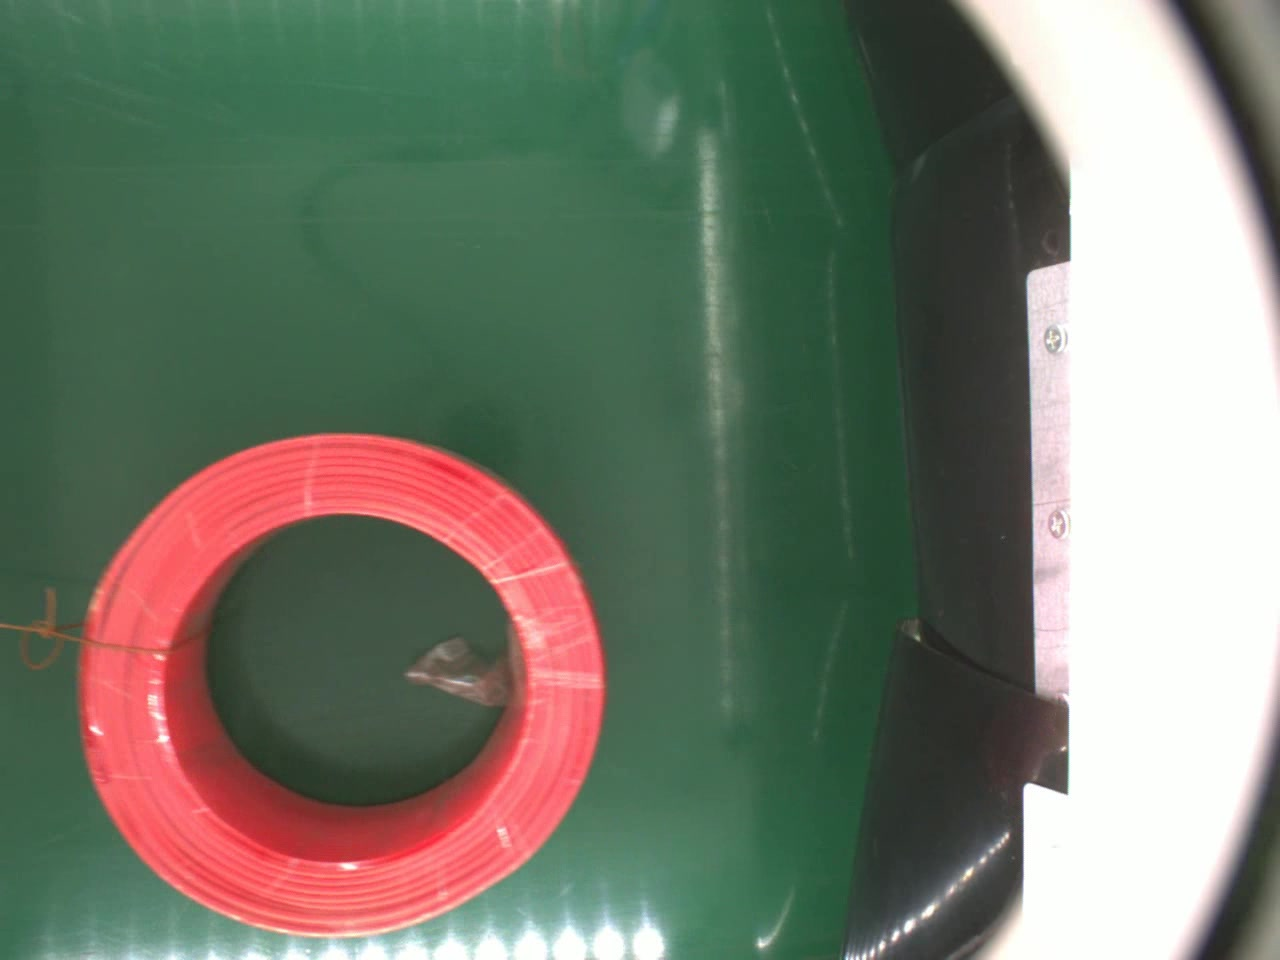red: (78, 431, 605, 934)
